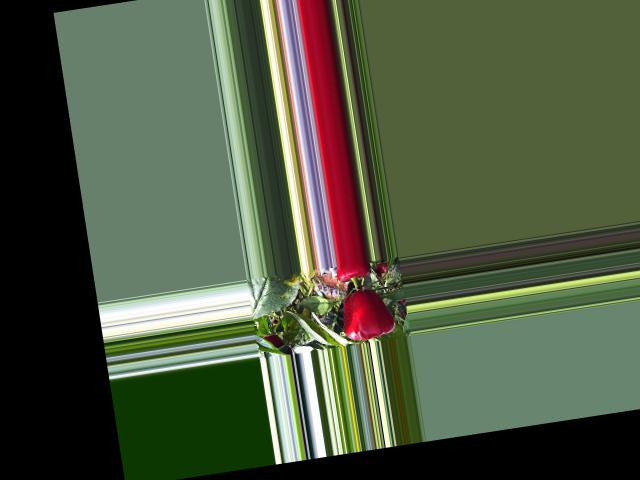bell_pepper: (331, 260, 374, 286)
